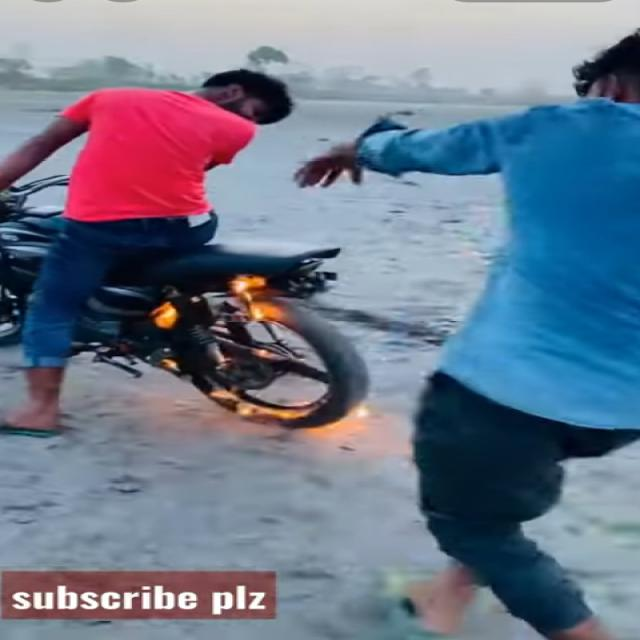fire: (237, 402, 313, 420)
